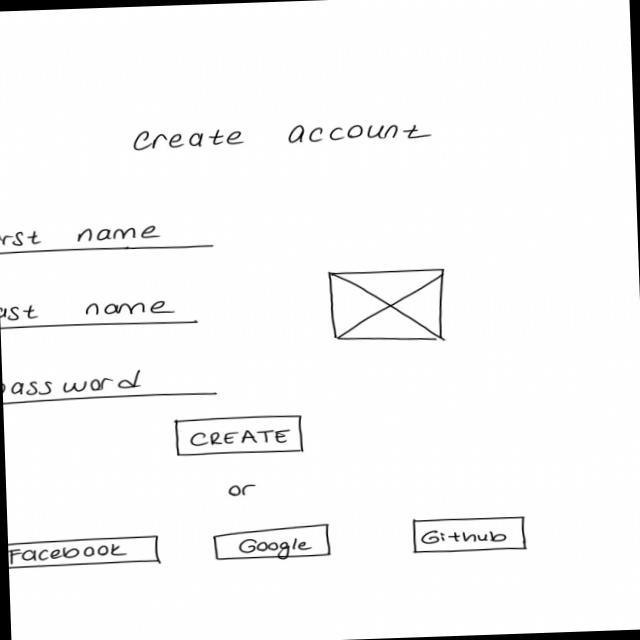button: (173, 412, 306, 460), (9, 532, 163, 573), (213, 522, 335, 565), (410, 513, 529, 557)
image: (325, 266, 449, 346), (228, 483, 262, 500)
input: (1, 209, 218, 259), (3, 365, 224, 408), (1, 289, 206, 333)
label: (129, 116, 438, 156)
